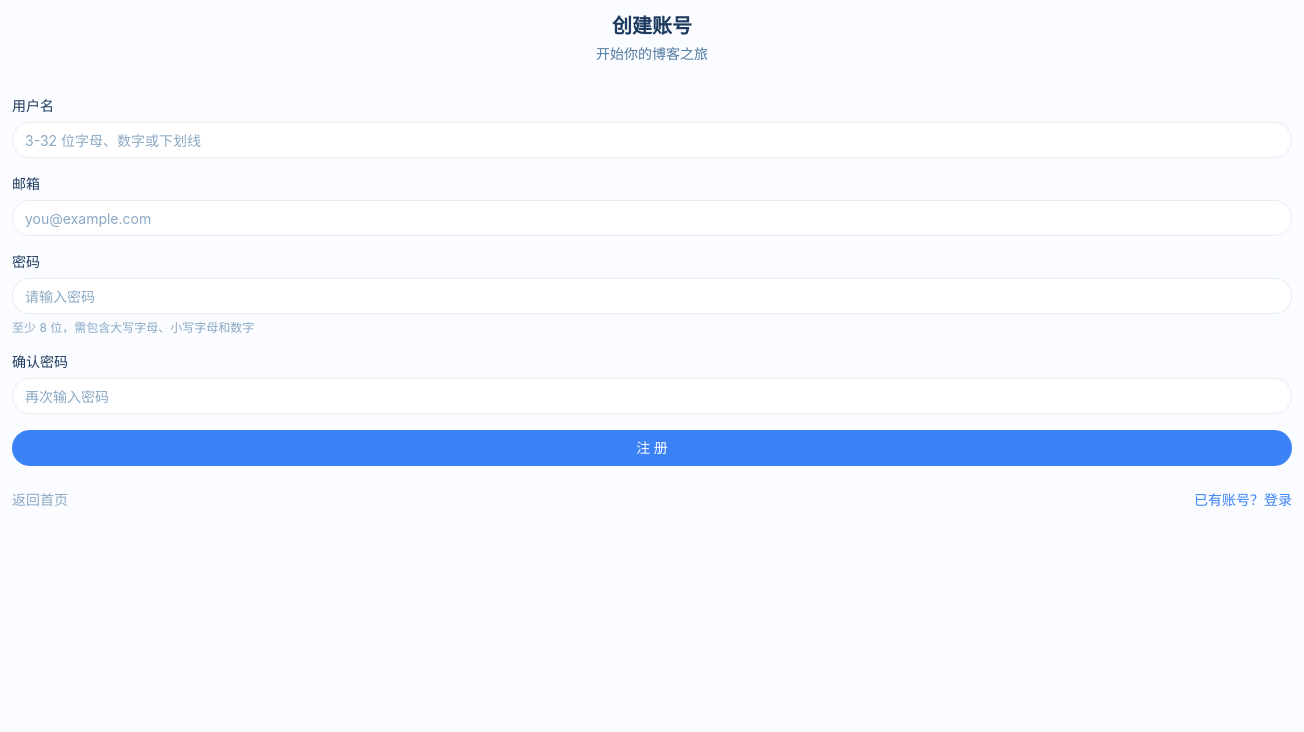
Test: RegisterPage › 邮箱格式错误报错
Type "tester" into the field labelled "用户名".
click(652, 140); type("tester")  # box 12,122 -> 1292,158
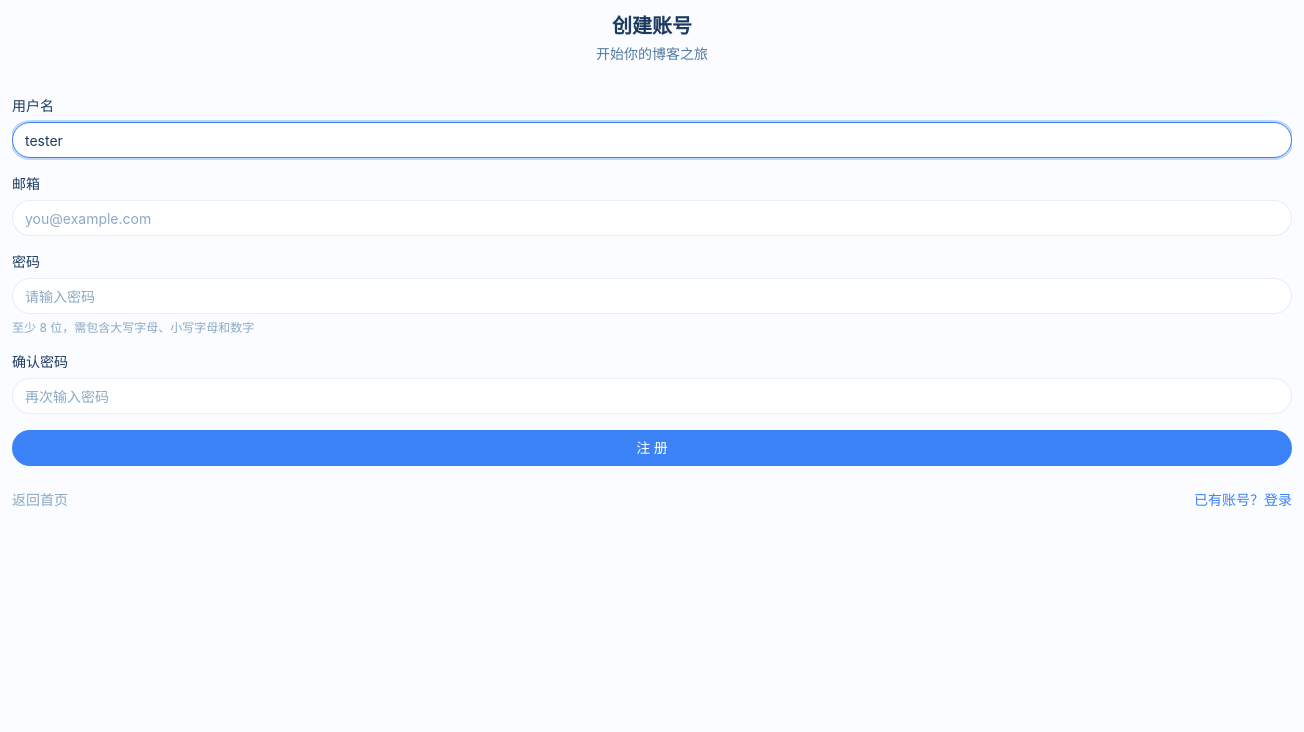
Type "not-an-email" into the field labelled "邮箱".
click(652, 218); type("not-an-email")  # box 12,200 -> 1292,236
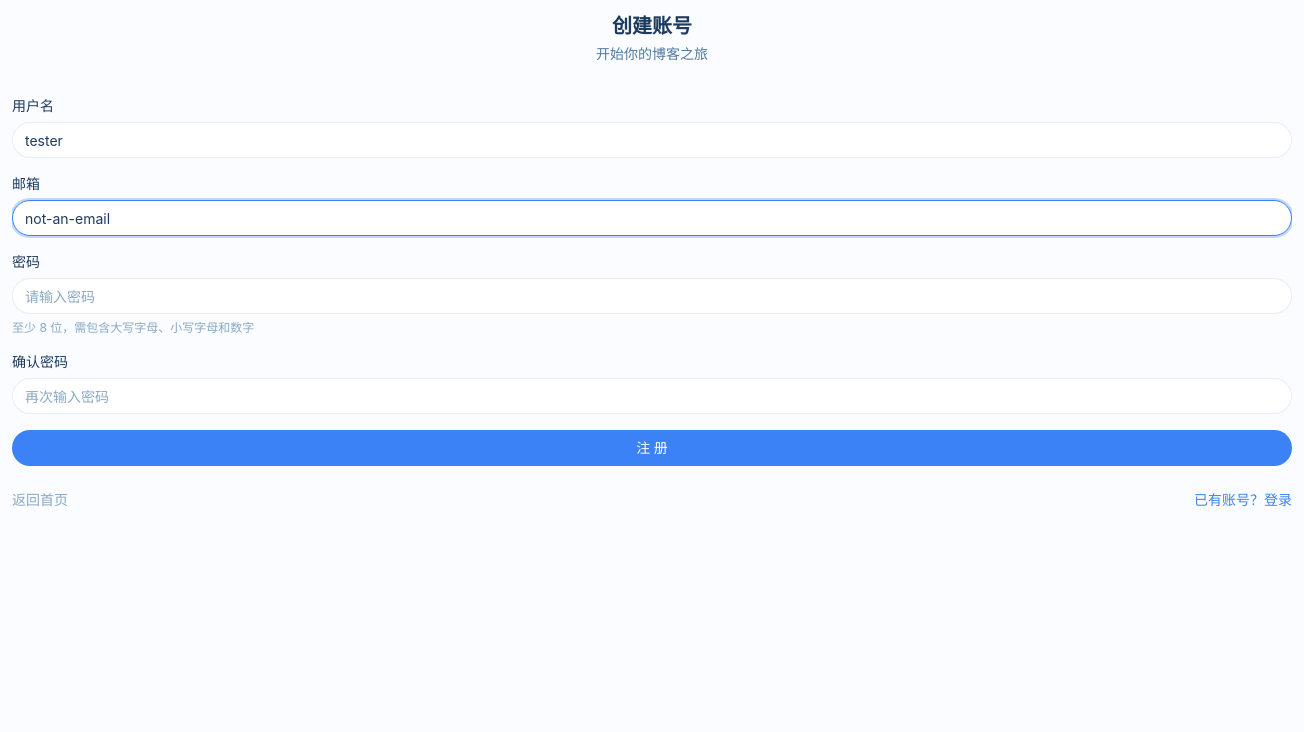
Click the button "注 册".
click(652, 448)  # box 12,430 -> 1292,466
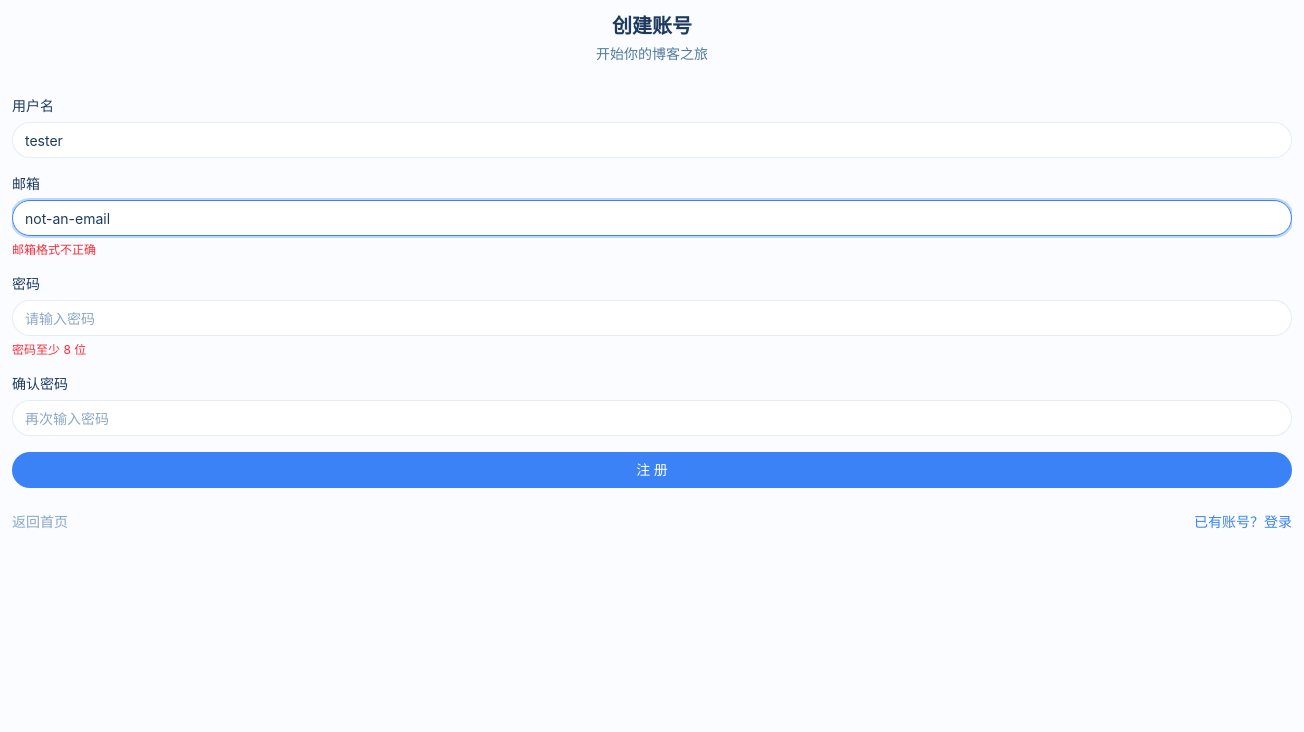
expect the text "邮箱格式不正确" is shown: met, box 12,242 -> 96,257
